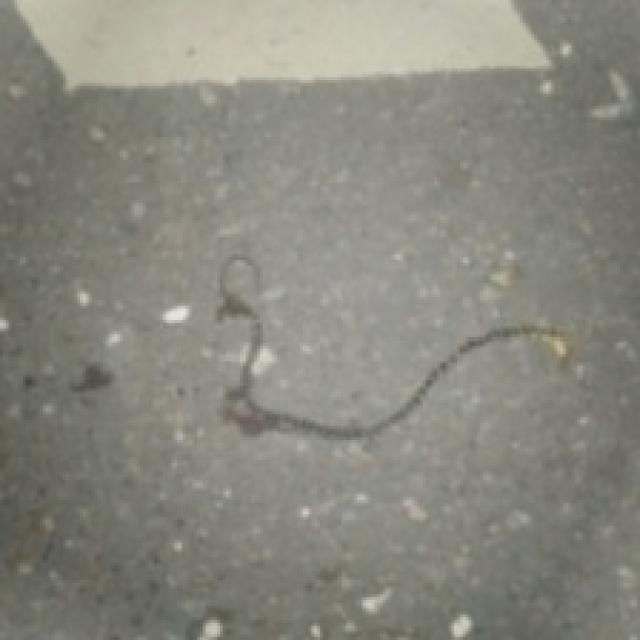mangrove cat snake: (217, 257, 571, 434)
